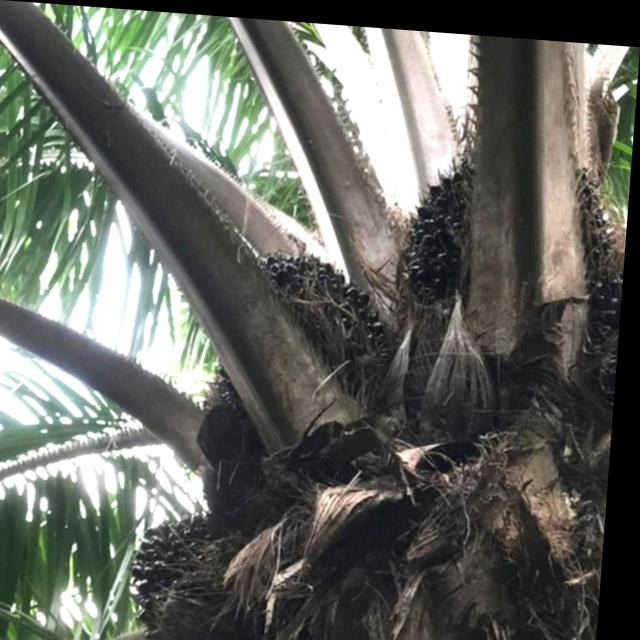almost: (396, 119, 626, 304), (219, 241, 404, 416), (133, 508, 288, 640)
